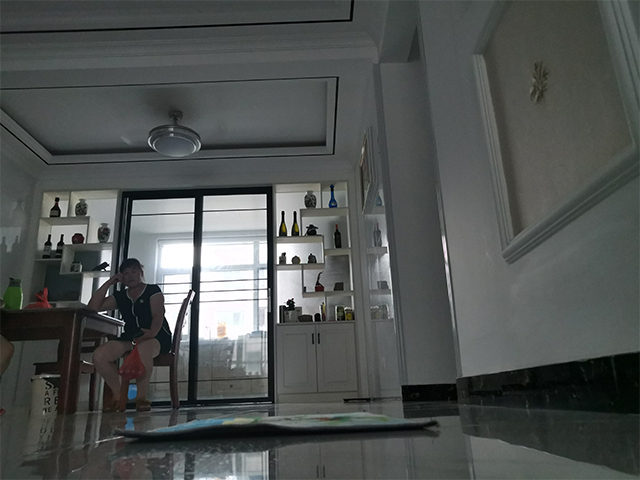cabinet: (271, 317, 357, 399)
carpet: (112, 409, 441, 441)
stool: (118, 286, 197, 413)
table: (1, 306, 127, 417)
trashcan: (28, 372, 63, 420)
